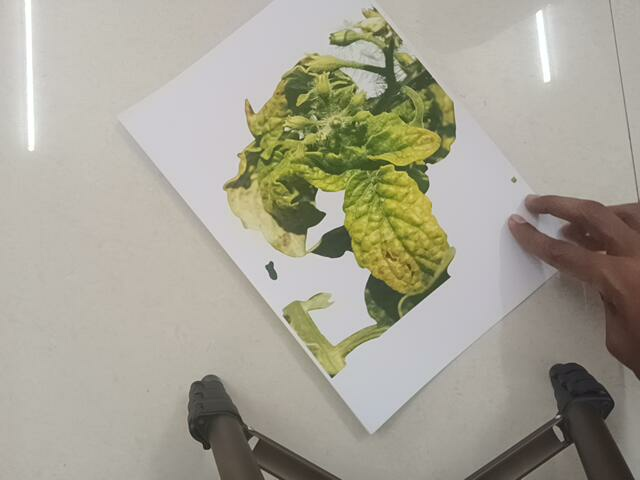Tomamto_Leaf_curl_virus: (228, 15, 458, 372)
